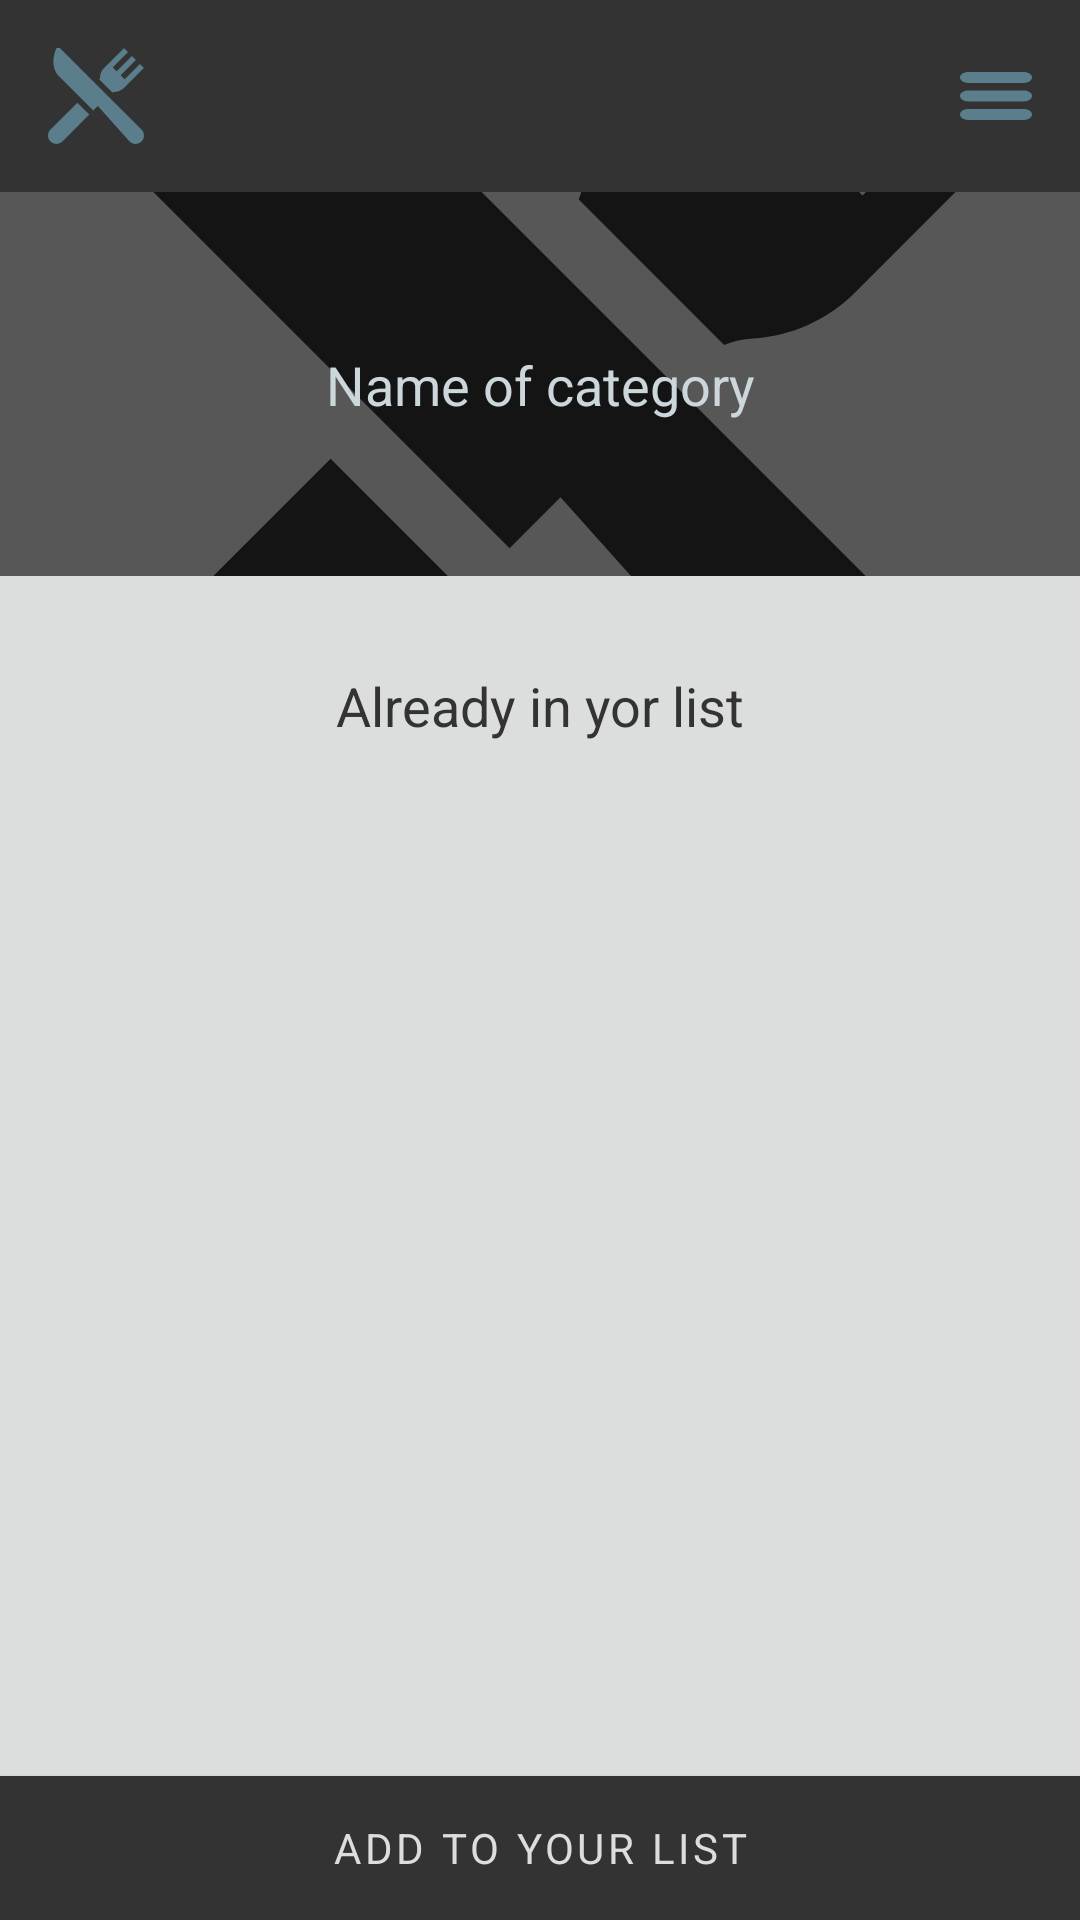

Point at icon controls on the screen. Image size 1080x1920, points as (x=x, y=y).
toggle menu: (x=996, y=96)
